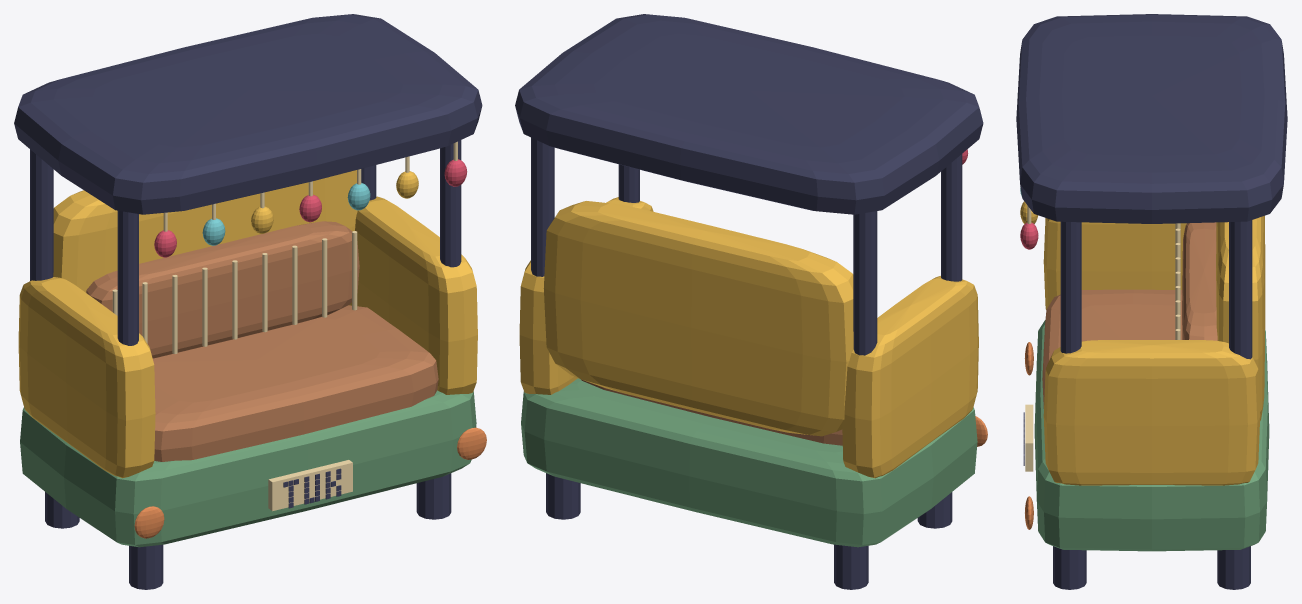
Rendered from tuk-tuk-sofa.glb.
3 views of the same model, side by side, from view 1: azimuth 30°, elevation 25°; view 2: azimuth 150°, elevation 25°; view 3: azimuth 270°, elevation 25° (orthographic).
Visible parts, largest first — view 1: tuk-tuk-sofa; view 2: tuk-tuk-sofa; view 3: tuk-tuk-sofa.
Part boxes in pixels (x1=…): tuk-tuk-sofa: x1=14, y1=14, x2=486, y2=589; tuk-tuk-sofa: x1=515, y1=14, x2=987, y2=589; tuk-tuk-sofa: x1=1016, y1=14, x2=1287, y2=589.
Bounding box in the file's own units: 1.65 × 1.77 × 1.04.
